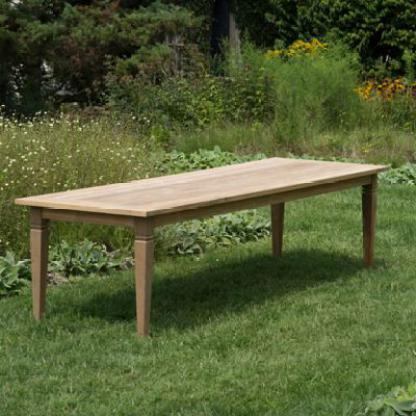table: (10, 151, 392, 343)
